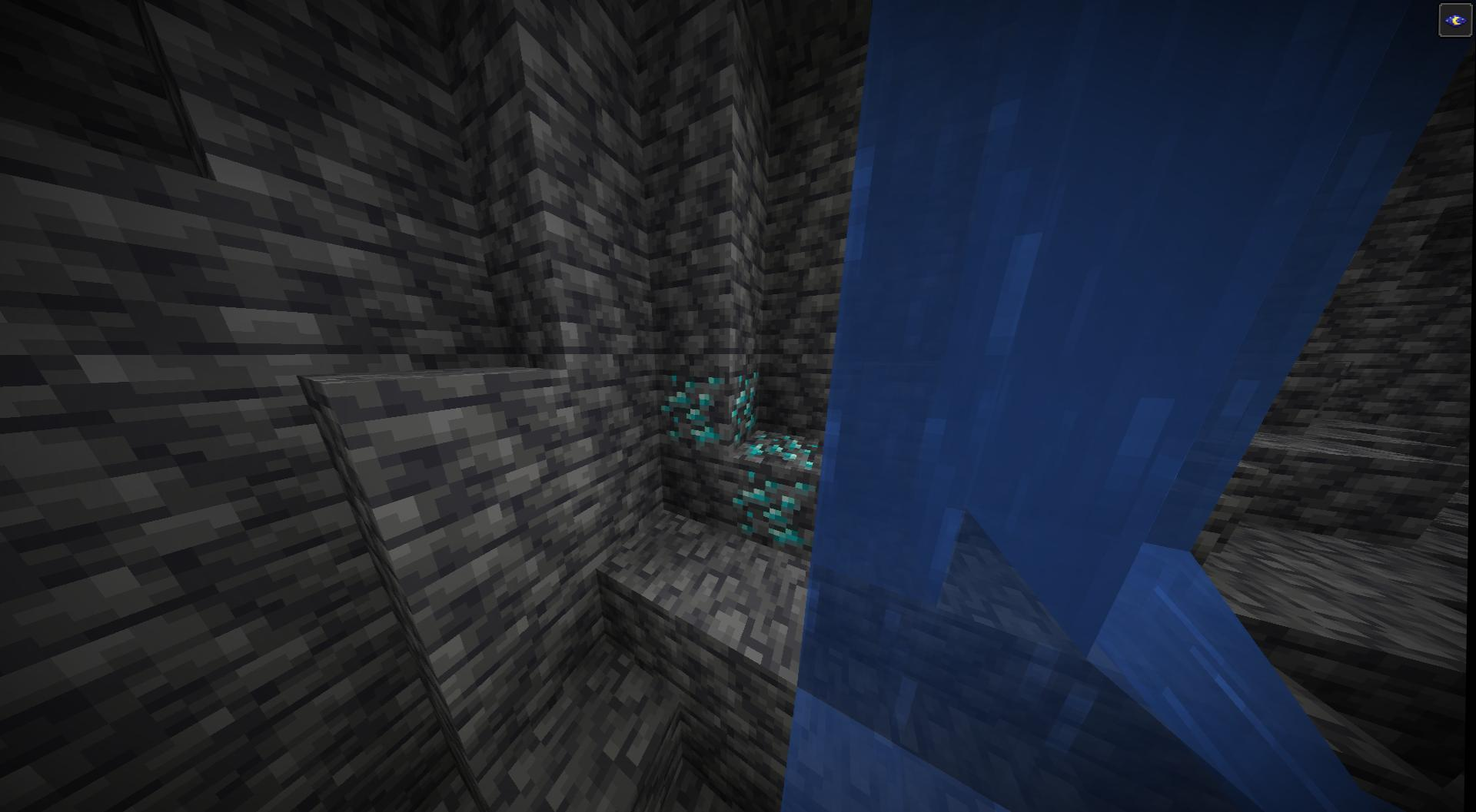diamond ore: (653, 370, 737, 449), (737, 468, 814, 543), (745, 432, 826, 465), (735, 369, 756, 439)
